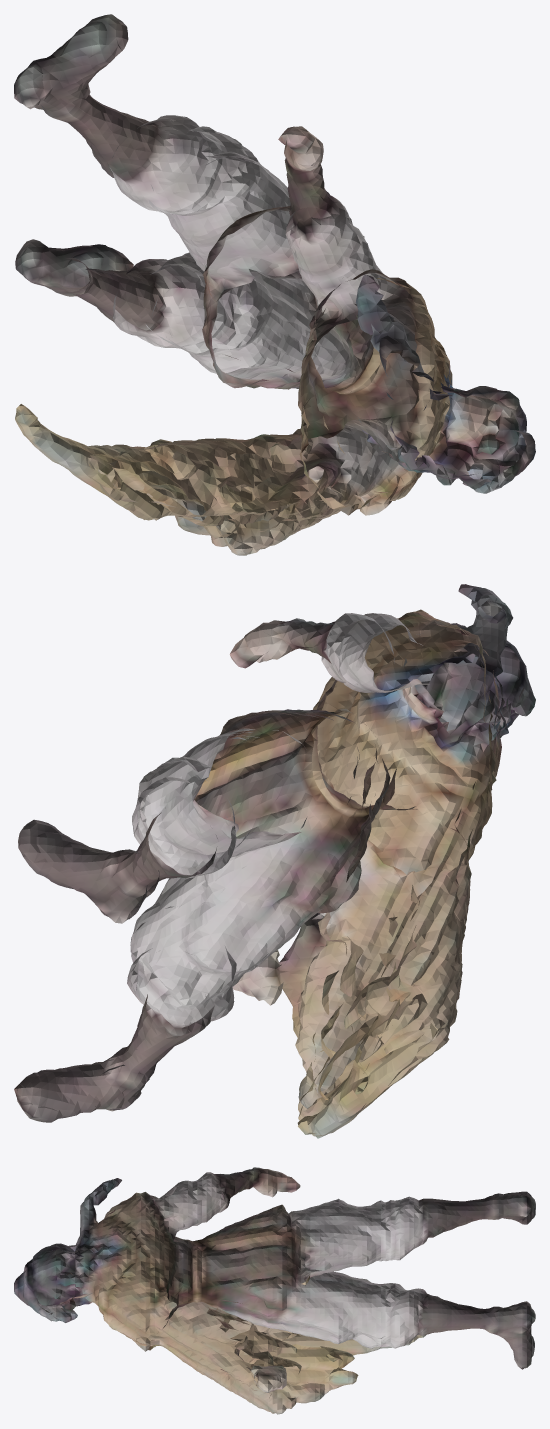
Rendered from li_xiaoyao_crossover_triposr_v1.glb.
3 views of the same model, one above another, from view 1: azimuth 30°, elevation 25°; view 2: azimuth 150°, elevation 25°; view 3: azimuth 270°, elevation 25° (orthographic). The views are drawn at different scales.
Parts seen in each view (by area): view 1: geometry_0; view 2: geometry_0; view 3: geometry_0.
Part boxes in pixels (left/top/right/bottom): geometry_0: left=14, top=14, right=535, bottom=555; geometry_0: left=14, top=584, right=535, bottom=1138; geometry_0: left=14, top=1167, right=535, bottom=1414.
Bounding box in the file's own units: 0.34 × 0.5514 × 1.01.
